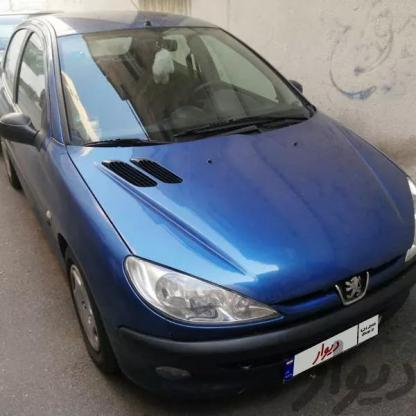Car: (0, 13, 414, 404)
